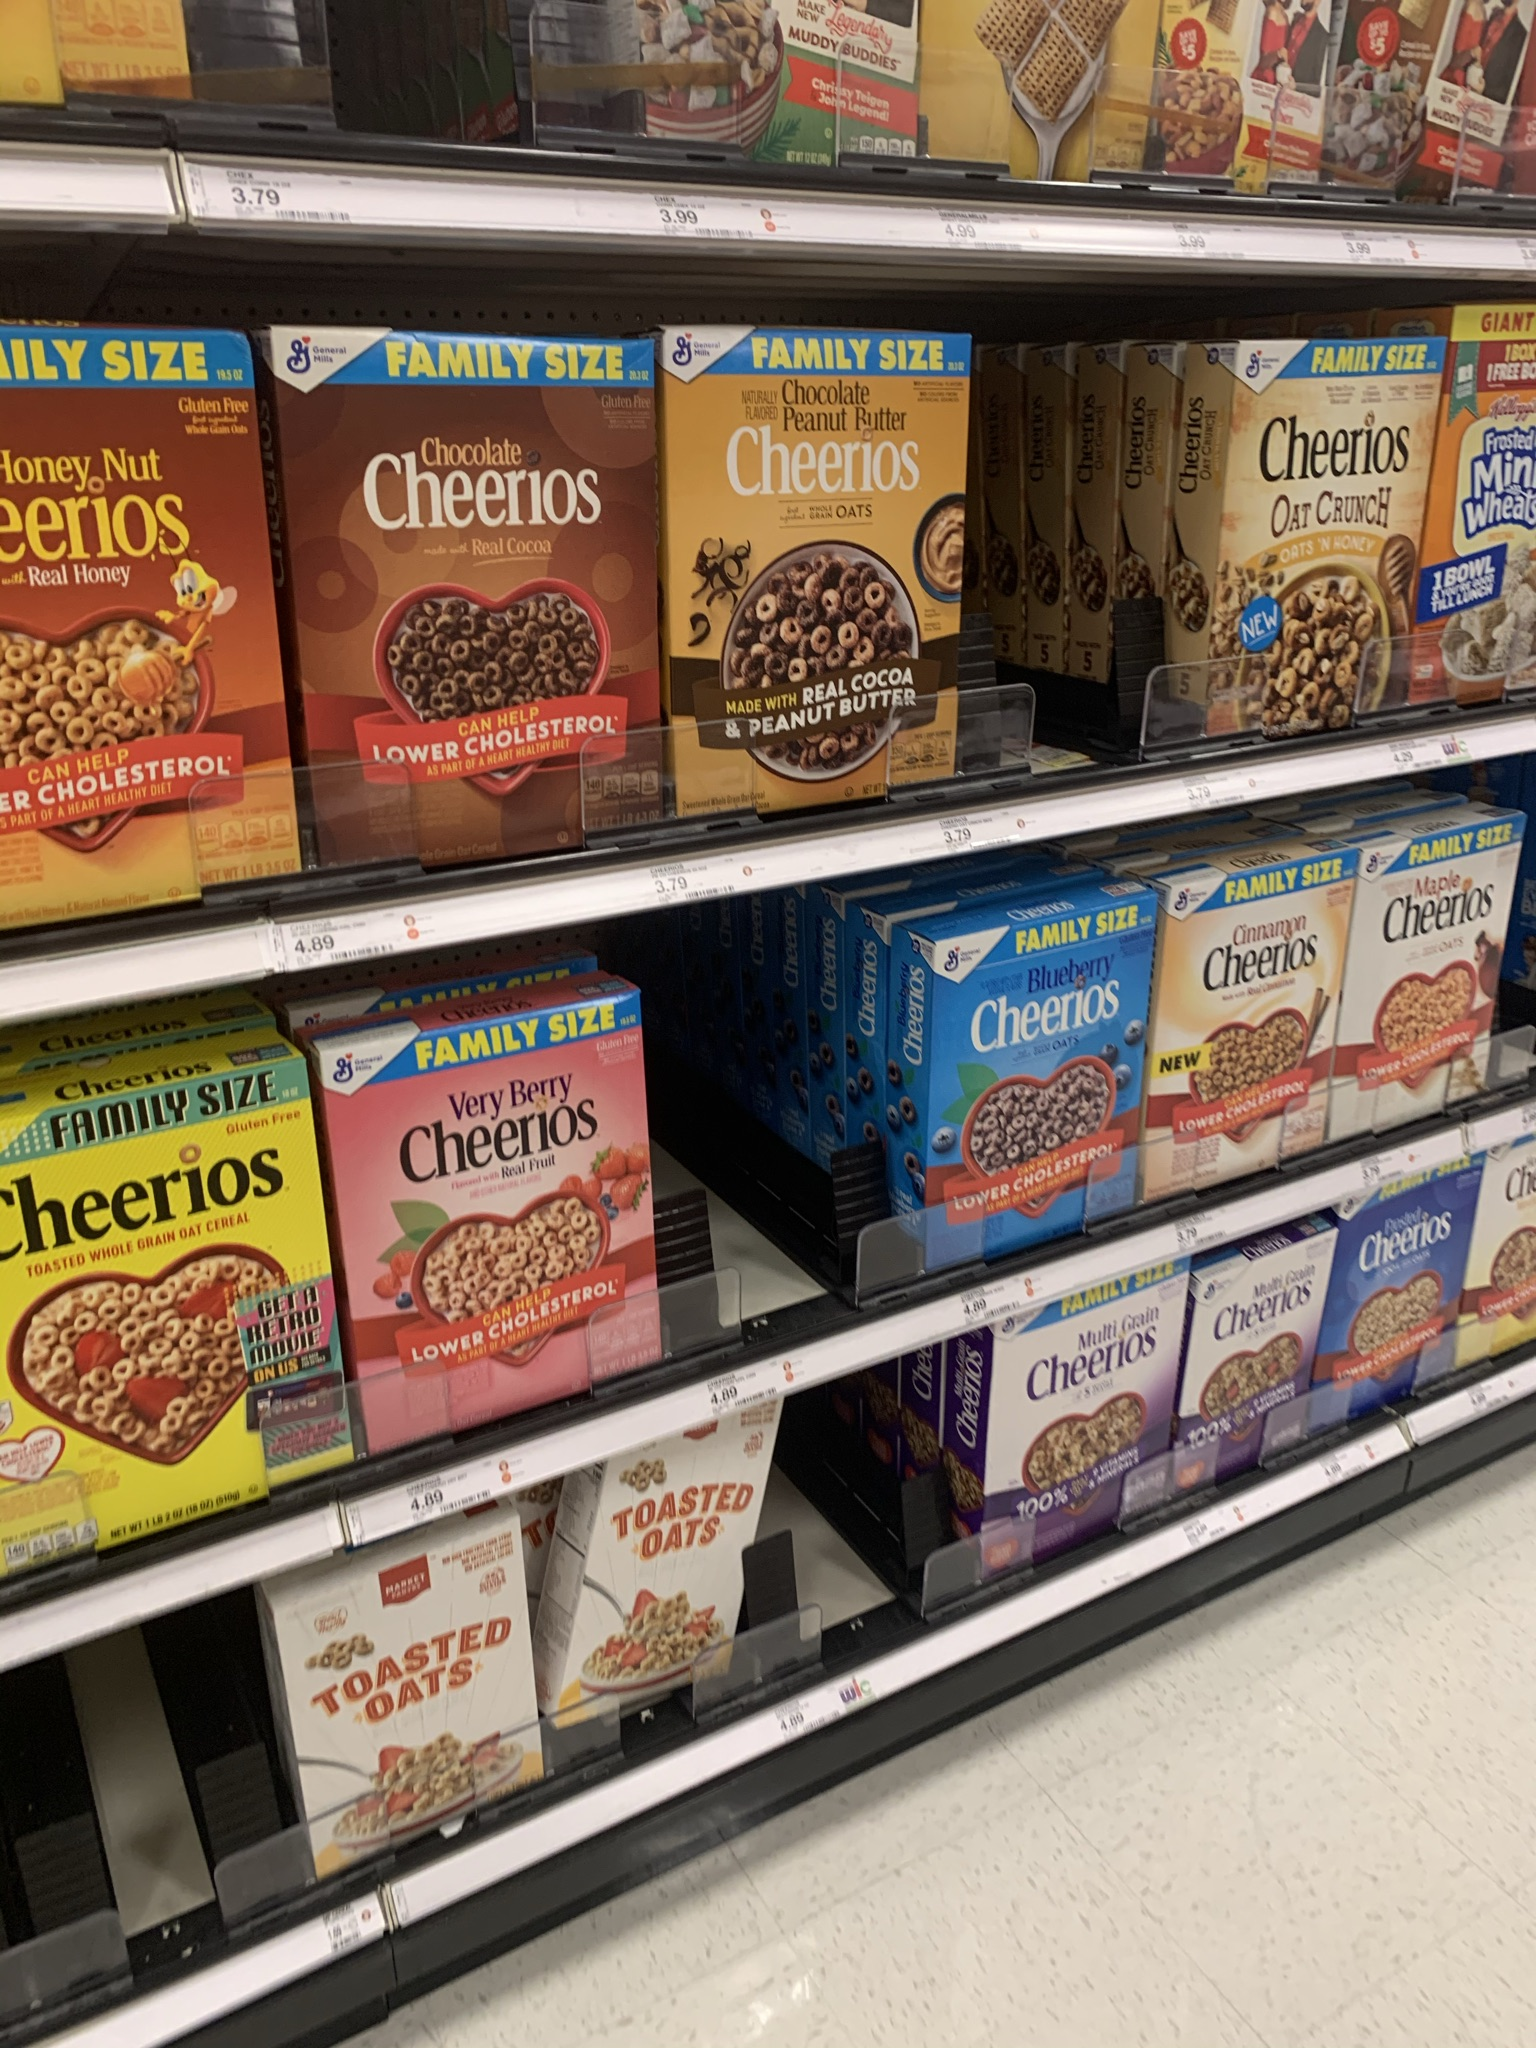Cereal cheerios: (324, 1056, 716, 1405), (682, 329, 958, 806), (11, 1138, 328, 1500), (933, 955, 1147, 1250), (1249, 356, 1394, 714), (1179, 906, 1339, 1151), (994, 1347, 1175, 1561), (1368, 879, 1517, 1129), (1344, 1224, 1471, 1450), (1207, 1266, 1334, 1476)
Cheerios: (319, 335, 658, 835)
Cheerios honey nut: (11, 343, 287, 866)
Toasted oats: (279, 1606, 539, 1837), (616, 1459, 762, 1716)
